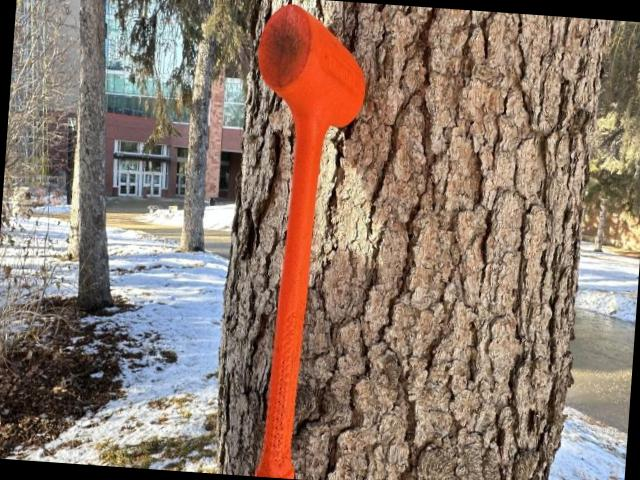hammer: (227, 2, 370, 480)
